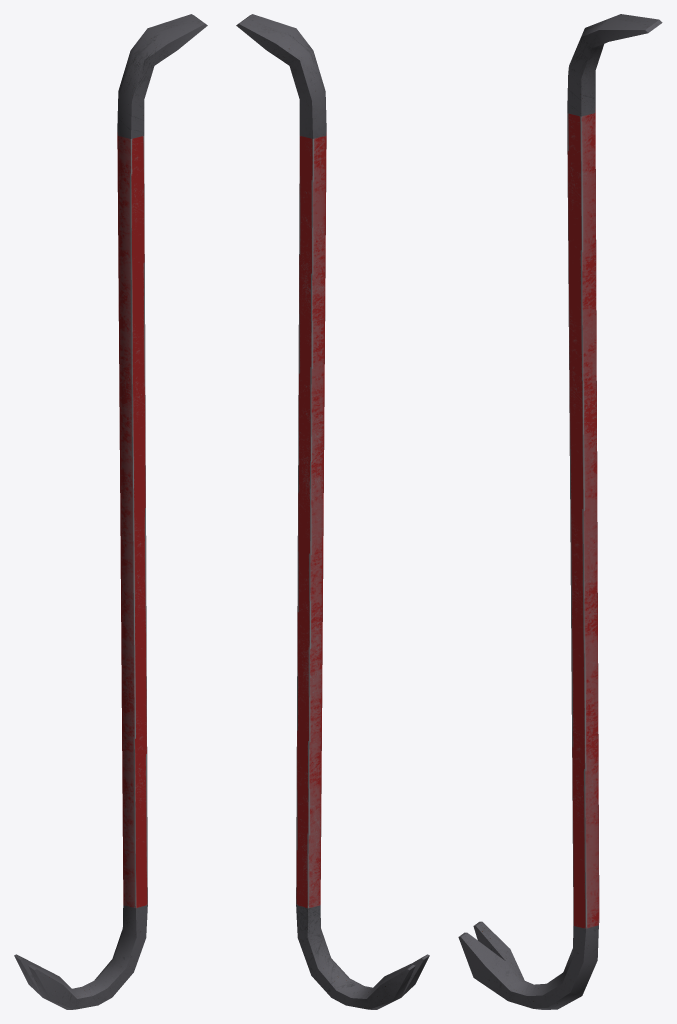
File: qiaogun.FBX
3 renders of one model, left to right at view 1: azimuth 30°, elevation 25°; view 2: azimuth 150°, elevation 25°; view 3: azimuth 330°, elevation 25°, orthographic. The views are drawn at different scales.
Visible parts, largest first — view 1: qiaogun; view 2: qiaogun; view 3: qiaogun.
Part boxes in pixels (box(x1,y1,x2,y2)): qiaogun: box(14, 14, 207, 1009); qiaogun: box(236, 14, 429, 1009); qiaogun: box(458, 14, 662, 1009).
Size of the model in its own units: 19.47 by 101 by 4.41.
Materials: 1 (1 with a texture image).
